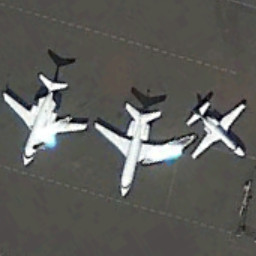Airplane: (90, 97, 191, 210), (1, 67, 92, 177), (184, 96, 251, 170)
